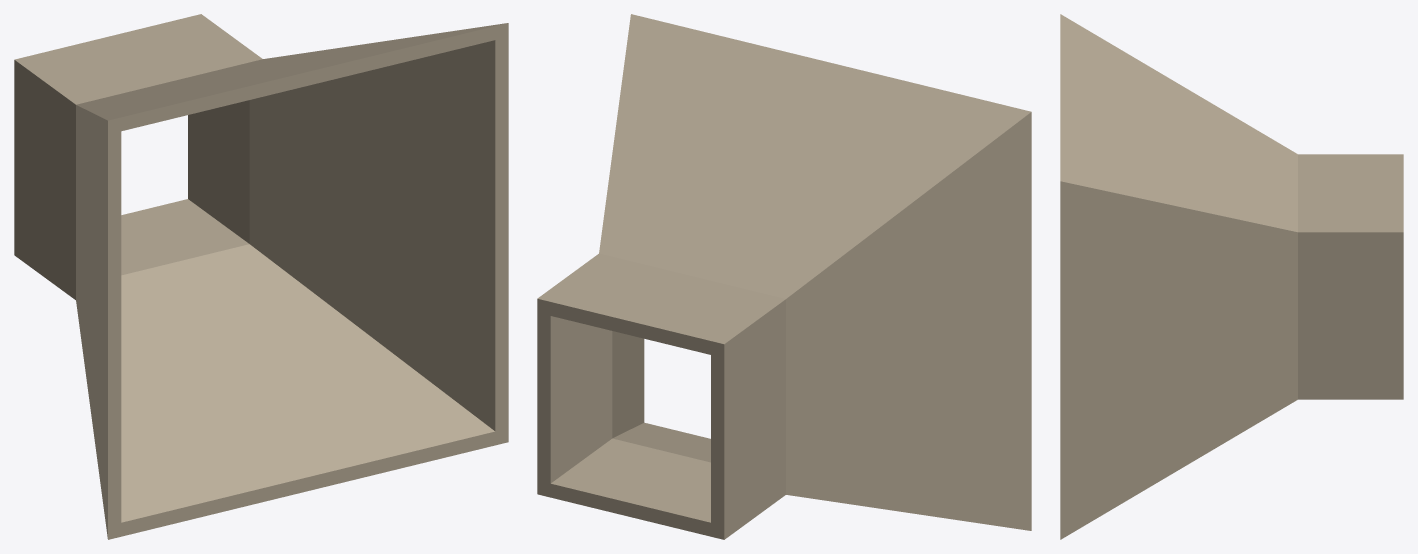
File: hopper_3.dae
3 views of the same model, side by side, from view 1: azimuth 30°, elevation 25°; view 2: azimuth 150°, elevation 25°; view 3: azimuth 270°, elevation 25° (orthographic). The views are drawn at different scales.
Visible parts, largest first — view 1: coords_ME_ID11_MA_material_13, coords_ME_ID3_MA_material_13; view 2: coords_ME_ID3_MA_material_13, coords_ME_ID11_MA_material_13; view 3: coords_ME_ID3_MA_material_13.
Part boxes in pixels (x1,y1,x2,y2): coords_ME_ID11_MA_material_13: [121, 40, 495, 522]; coords_ME_ID3_MA_material_13: [14, 14, 508, 539]; coords_ME_ID3_MA_material_13: [537, 14, 1031, 539]; coords_ME_ID11_MA_material_13: [550, 316, 710, 522]; coords_ME_ID3_MA_material_13: [1060, 14, 1403, 539].
Size of the model in its own units: 4.72 by 4.72 by 4.09.
